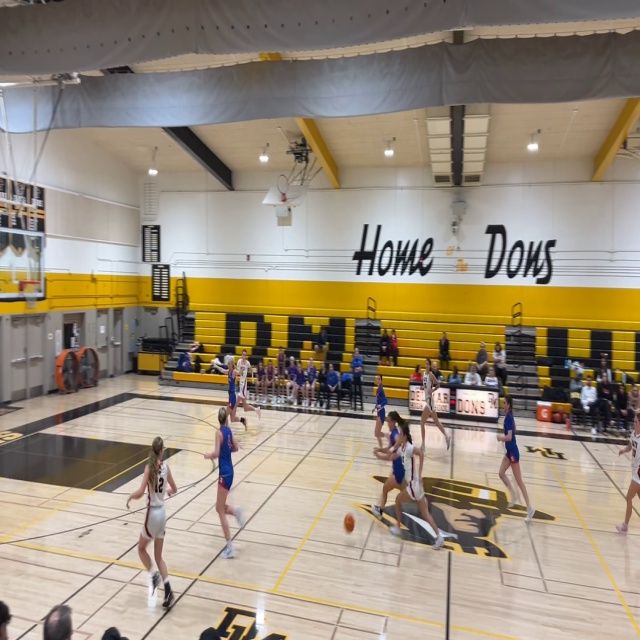Basketball: (343, 513, 354, 533)
